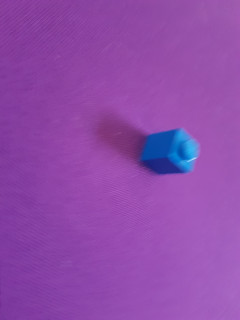1x1 blue: (138, 128, 200, 175)
